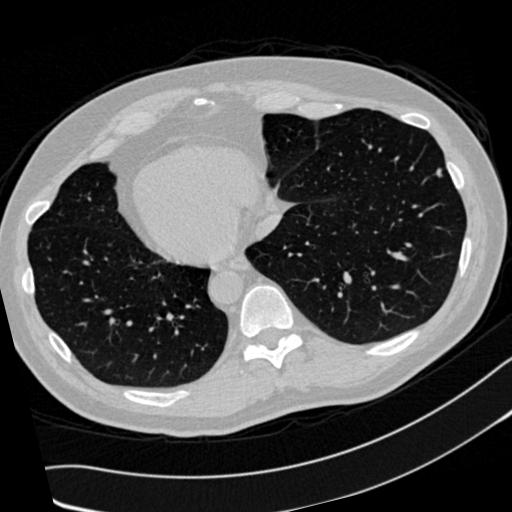nodule: (435, 166, 448, 179)
